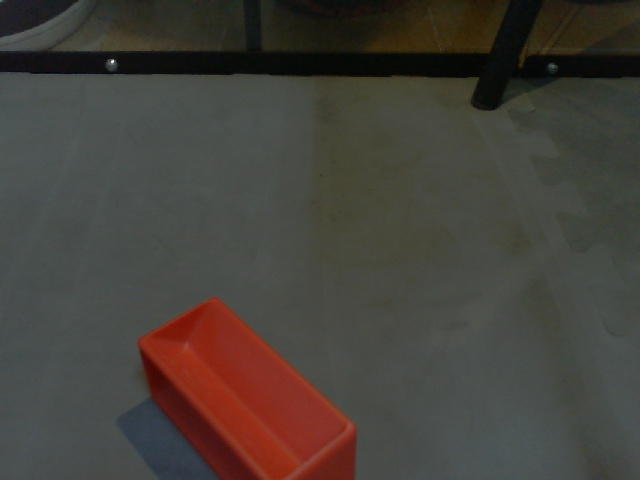RedSample: (136, 294, 359, 480)
